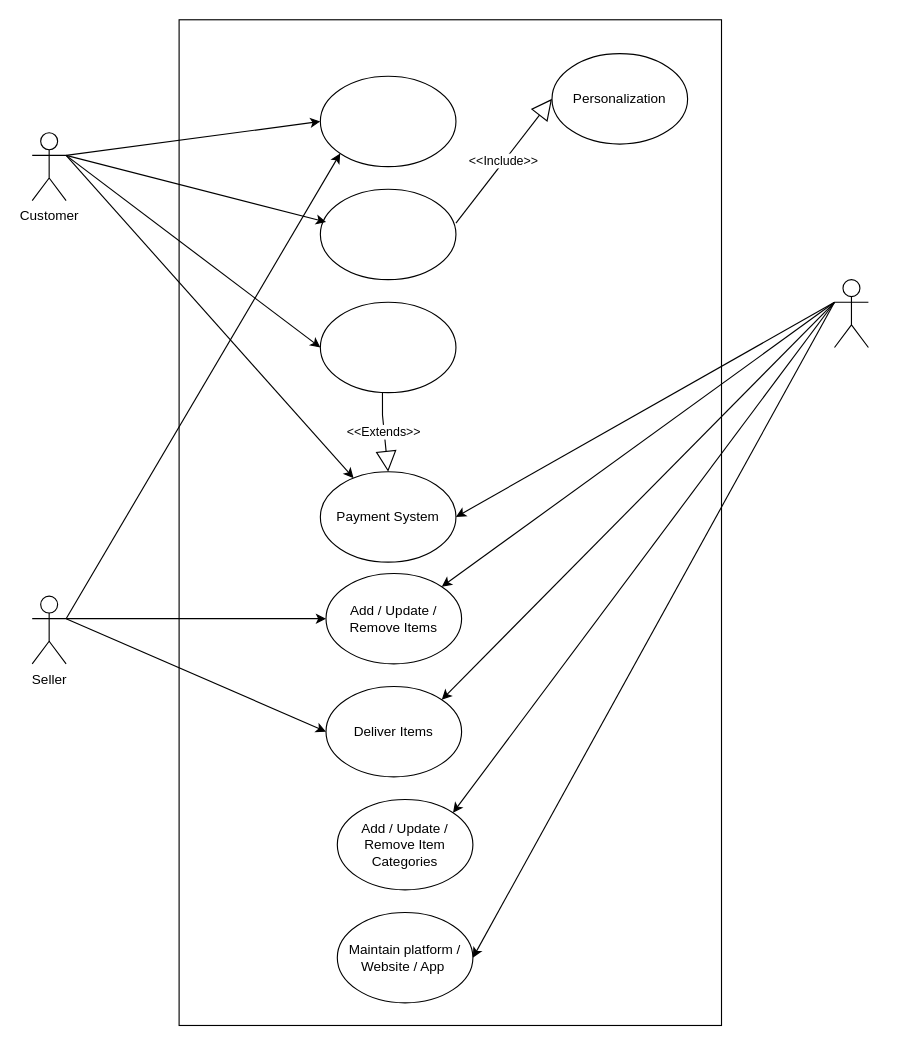
The diagram is 897 pixels wide and 1045 high, and some of its shapes have lost their labels. The shapes that lost their labels are listed below. From the top down, each one's centre as x and y in pixels, then its label:
point (387, 121): Login / Logout
point (387, 234): Search for Product
point (850, 313): Amazon Admin
point (387, 347): Manage Cart
